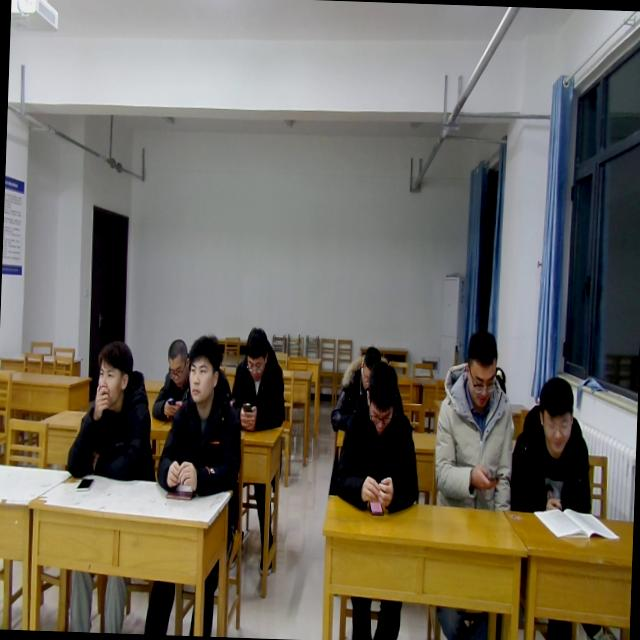bow: (229, 320, 290, 434), (328, 345, 383, 432), (151, 336, 195, 422)
down: (532, 373, 578, 458), (461, 326, 501, 414), (362, 358, 398, 438), (242, 319, 272, 380), (161, 336, 189, 389), (358, 344, 384, 388)
lookup: (90, 334, 136, 408), (184, 331, 225, 408)
sit: (432, 327, 520, 512), (153, 332, 246, 500), (332, 358, 424, 514), (64, 334, 157, 482), (510, 368, 598, 516)
